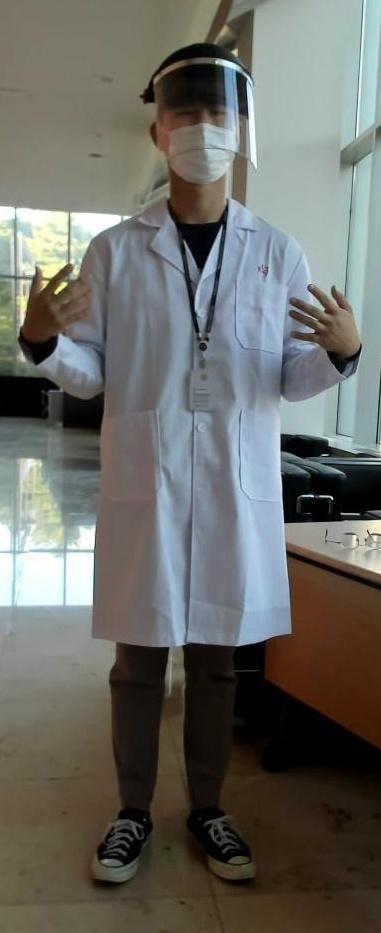lab_coat: (88, 240, 298, 633)
